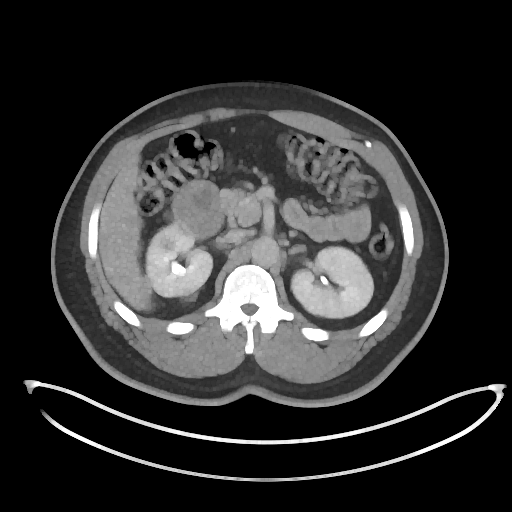Lesion: (170, 177, 228, 239)
